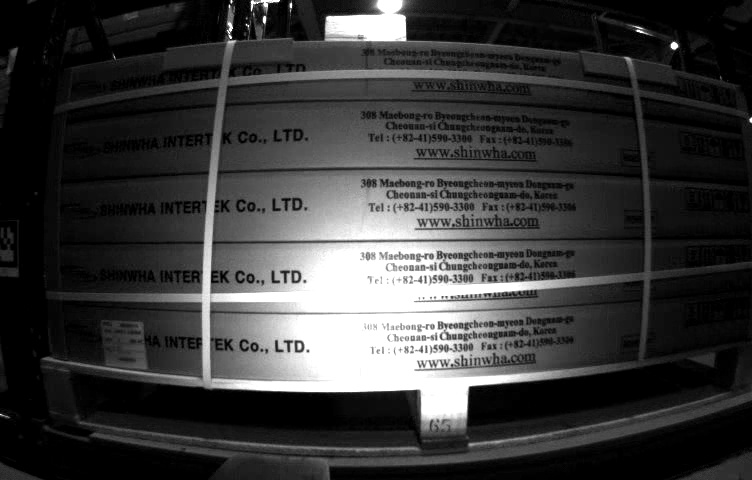True Barcode: (99, 319, 149, 373)
